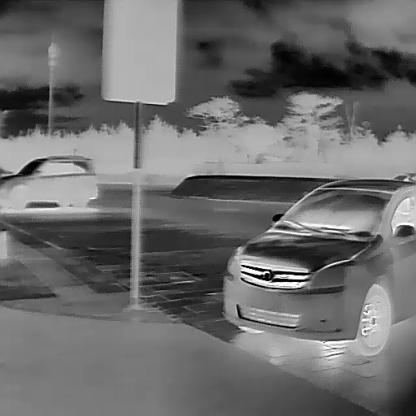car: (223, 176, 415, 356), (0, 153, 99, 213)
